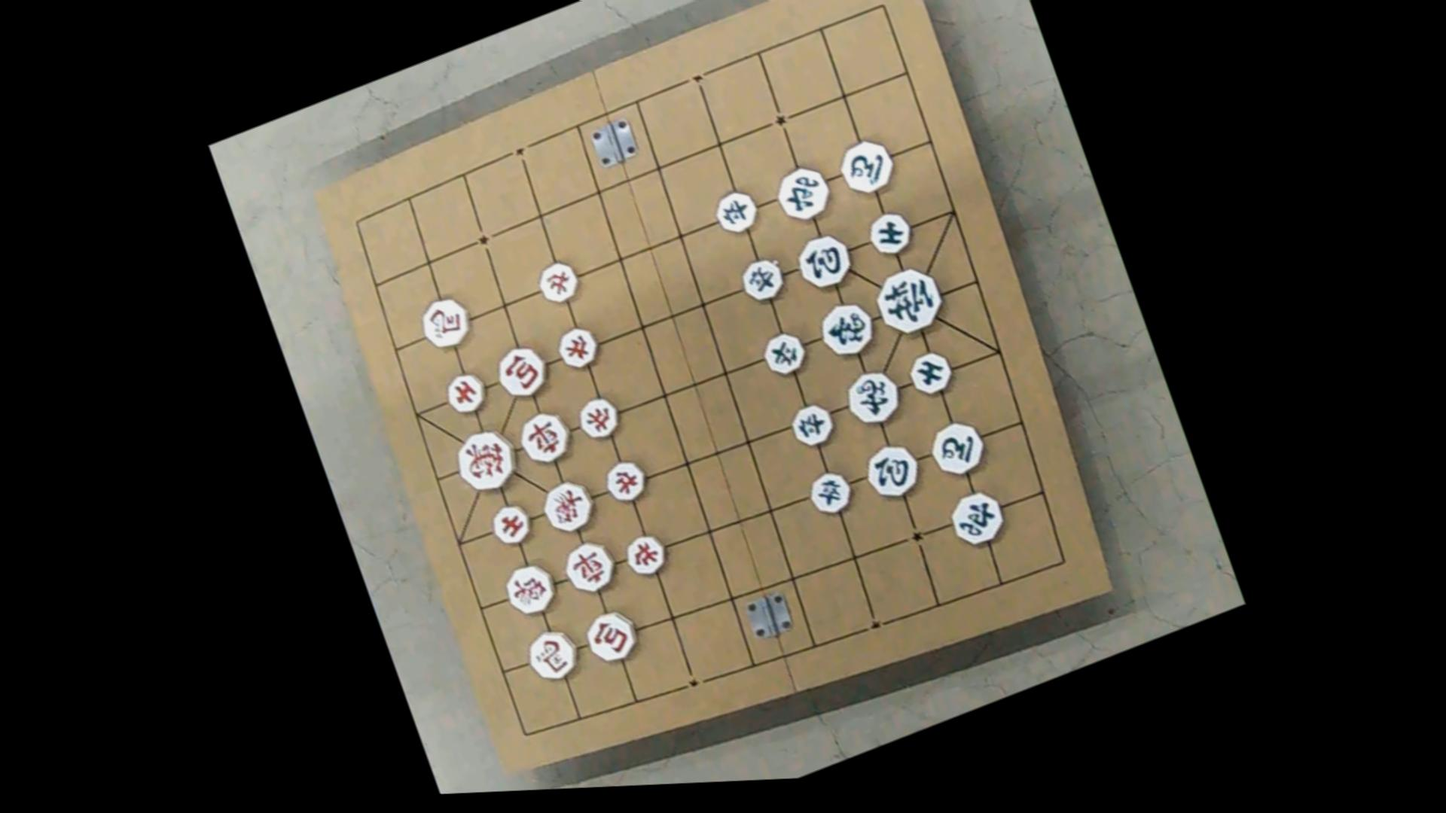cha_green: (770, 160, 834, 226), (944, 485, 1008, 550)
cha_red: (559, 535, 620, 598), (514, 406, 574, 468)
jol_green: (709, 186, 761, 237), (758, 327, 809, 379), (786, 400, 837, 451), (804, 467, 854, 518), (737, 254, 787, 305)
jol_red: (621, 530, 670, 581), (573, 393, 622, 443), (552, 322, 601, 372), (533, 257, 581, 307), (601, 456, 649, 506)
ma_green: (925, 415, 989, 480), (834, 135, 898, 199)
ma_red: (415, 291, 475, 353), (521, 624, 581, 685)
po_green: (859, 438, 923, 504), (792, 229, 856, 294)
po_red: (581, 604, 641, 668), (491, 340, 552, 402)
sa_green: (863, 208, 914, 259), (904, 348, 954, 399)
sa_red: (440, 367, 490, 419), (487, 500, 535, 550)
sang_green: (813, 295, 878, 363), (840, 364, 905, 431)
sang_red: (499, 559, 560, 620), (536, 476, 597, 537)
wang_green: (868, 260, 948, 342)
wang_red: (448, 424, 521, 498)
